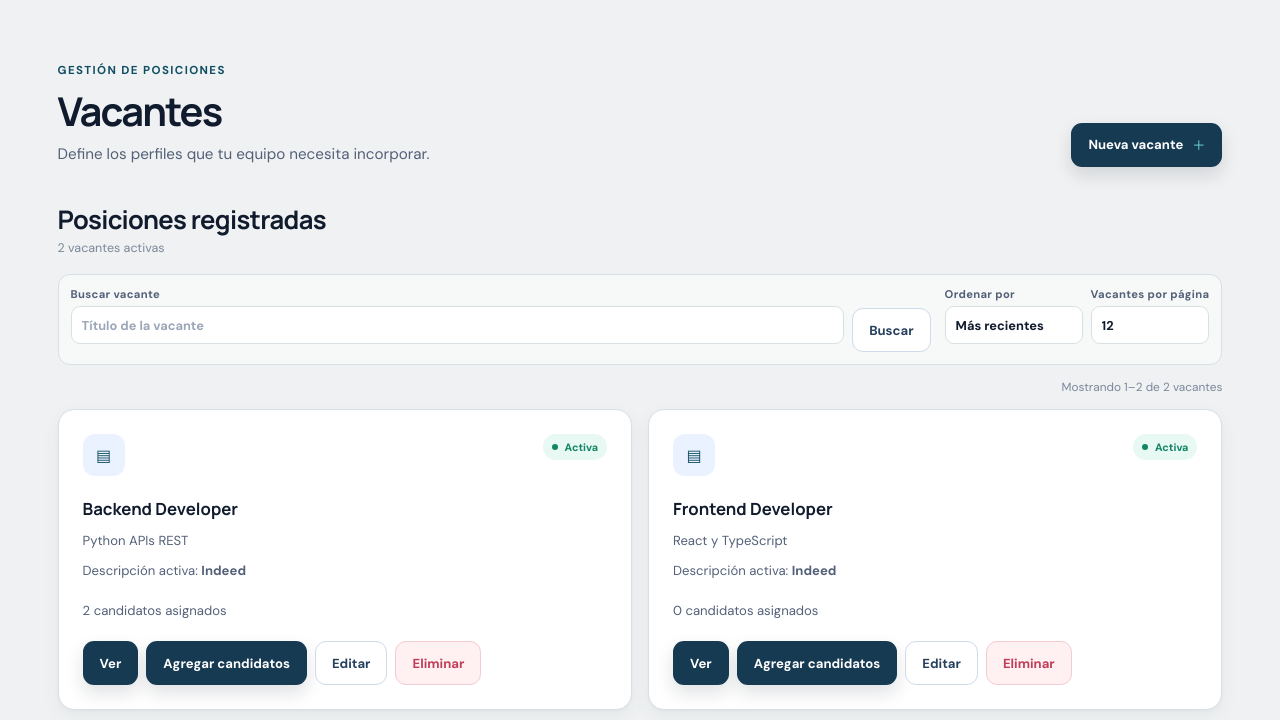
Test case: Jobs page › vacante sin candidatos shows empty message
expect the heading "Frontend Developer" is shown: met, box x1=673 y1=498 x2=833 y2=520
Click the button "Ver" below "React y TypeScript" at (701, 663), box x1=673 y1=641 x2=729 y2=685
(page scrolled)
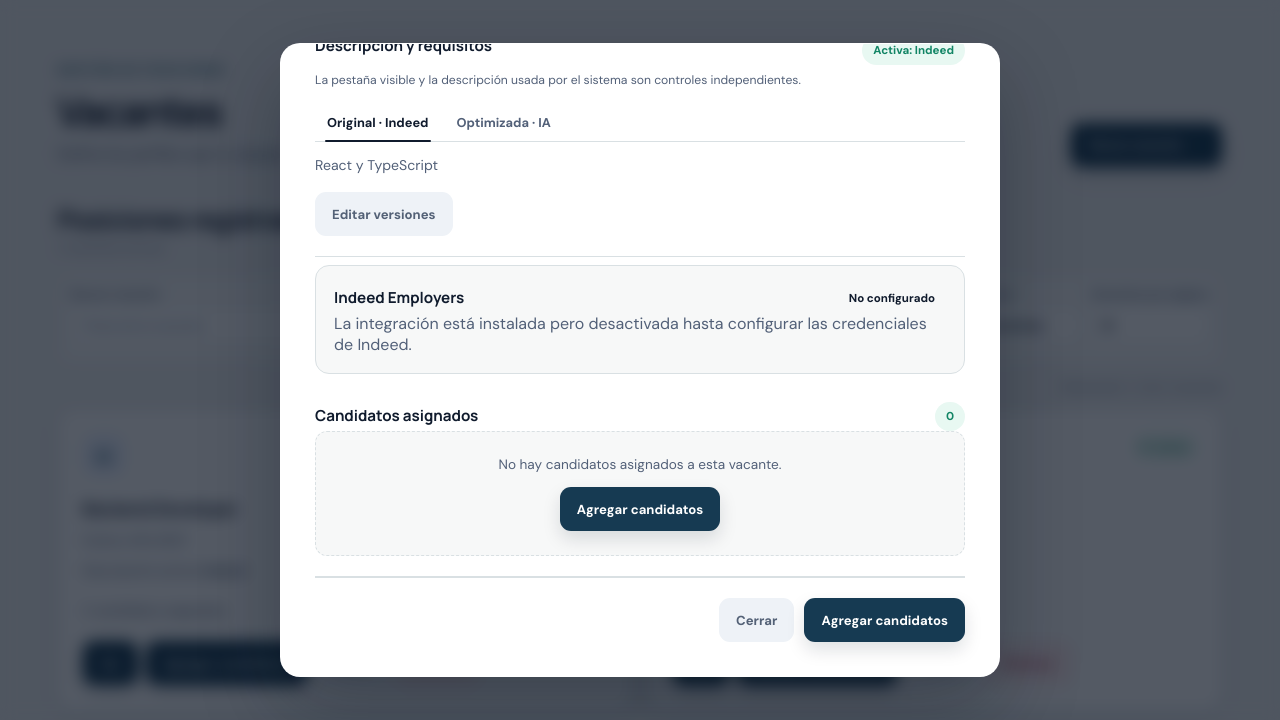
expect the text "No hay candidatos asignados a esta vacante." is shown: met, box x1=498 y1=456 x2=782 y2=473
